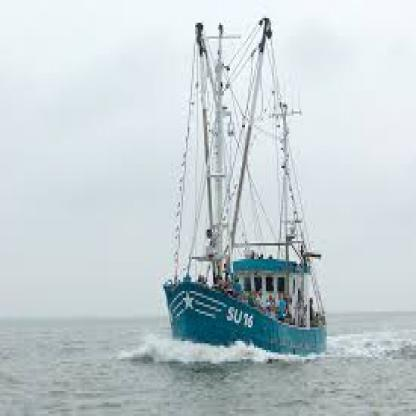Ship: (163, 8, 339, 367)
